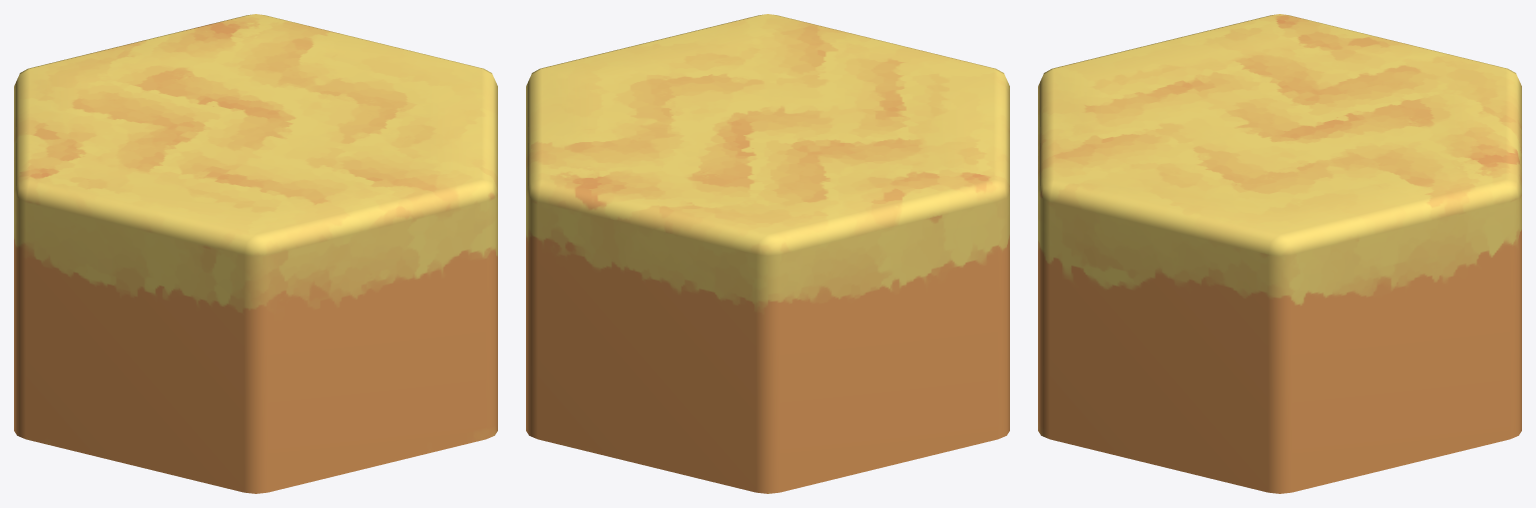
File: Hexagon_Sand.fbx
3 renders of one model, left to right at view 1: azimuth 30°, elevation 25°; view 2: azimuth 150°, elevation 25°; view 3: azimuth 270°, elevation 25°, orthographic.
Parts seen in each view (by area): view 1: Hexagon_Sand; view 2: Hexagon_Sand; view 3: Hexagon_Sand.
Boxes of the visible parts, x1,y1,x2,y2 form: Hexagon_Sand: [14, 14, 497, 493]; Hexagon_Sand: [526, 14, 1009, 493]; Hexagon_Sand: [1038, 14, 1521, 493].
Size of the model in its own units: 227 by 115 by 199.
